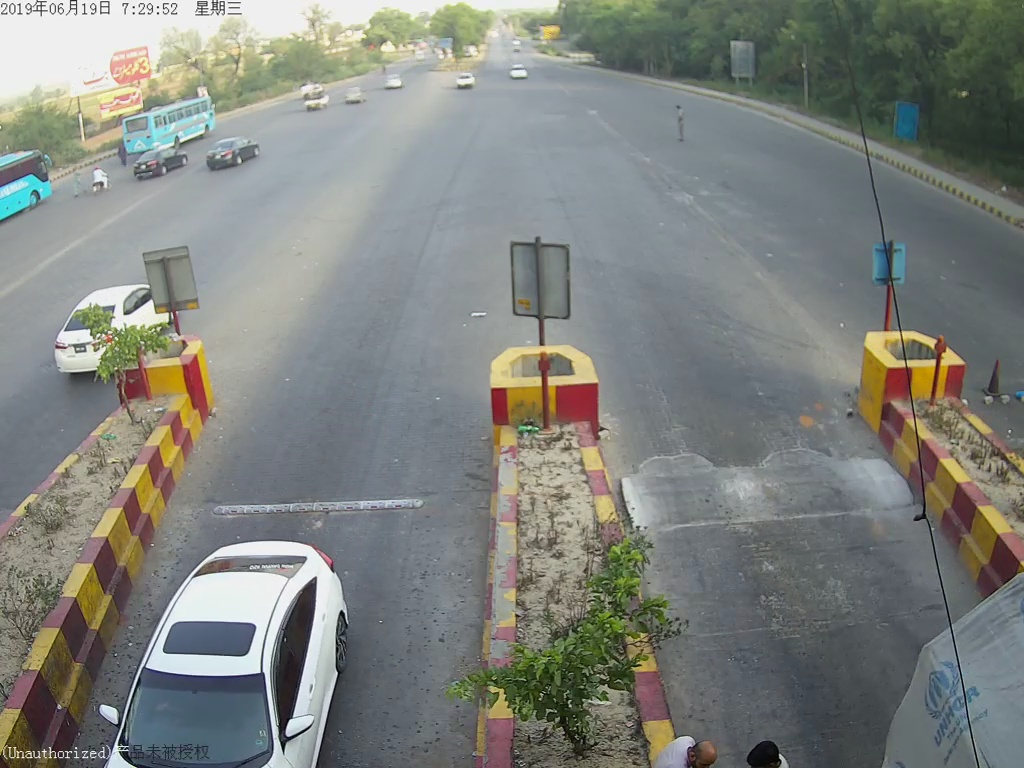Cat-1: (127, 555, 360, 741)
